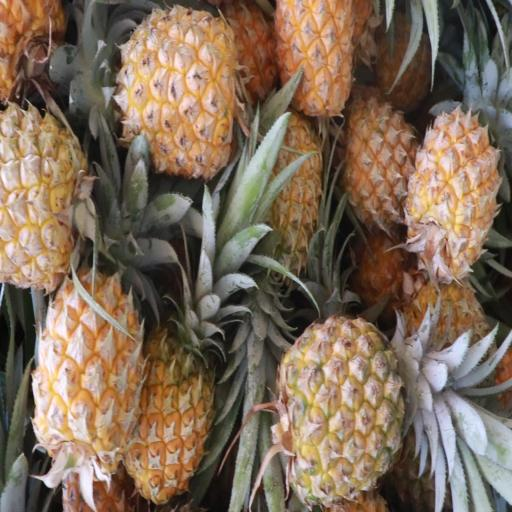------------------------------: (271, 313, 470, 503)
Pineapple - v8 v1: (35, 262, 146, 504), (124, 239, 222, 506), (92, 5, 235, 173), (233, 98, 329, 317), (400, 108, 506, 304), (338, 94, 413, 236)
